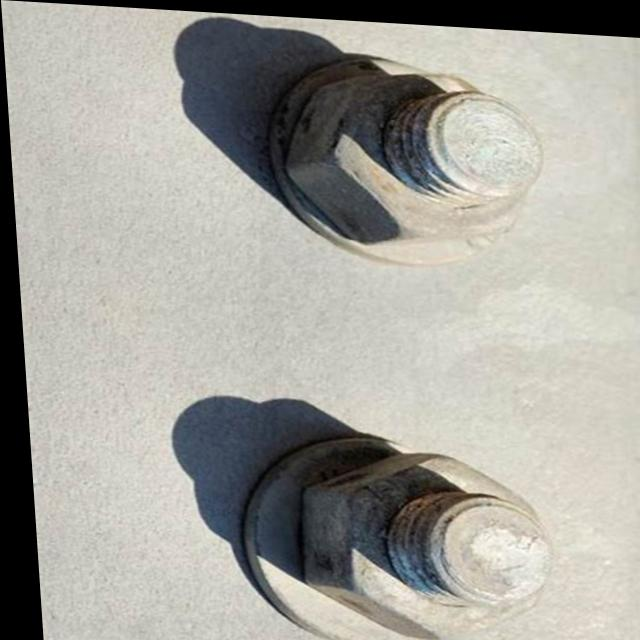Regular bolt: (290, 443, 556, 640), (289, 60, 546, 249)
